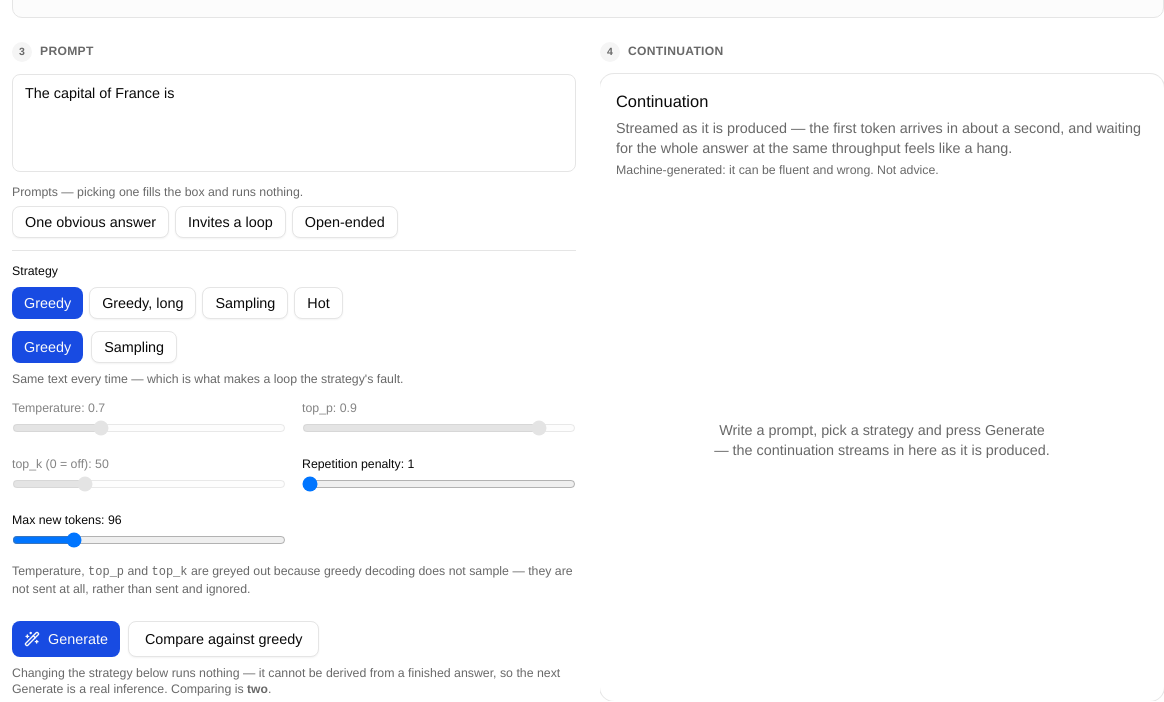
Test case: TextGenerationPage › compares with two inferences of the same prompt, the second greedy
(page scrolled)
Click the button with test id "mode-sample" at (134, 347), box [91,331,177,363]
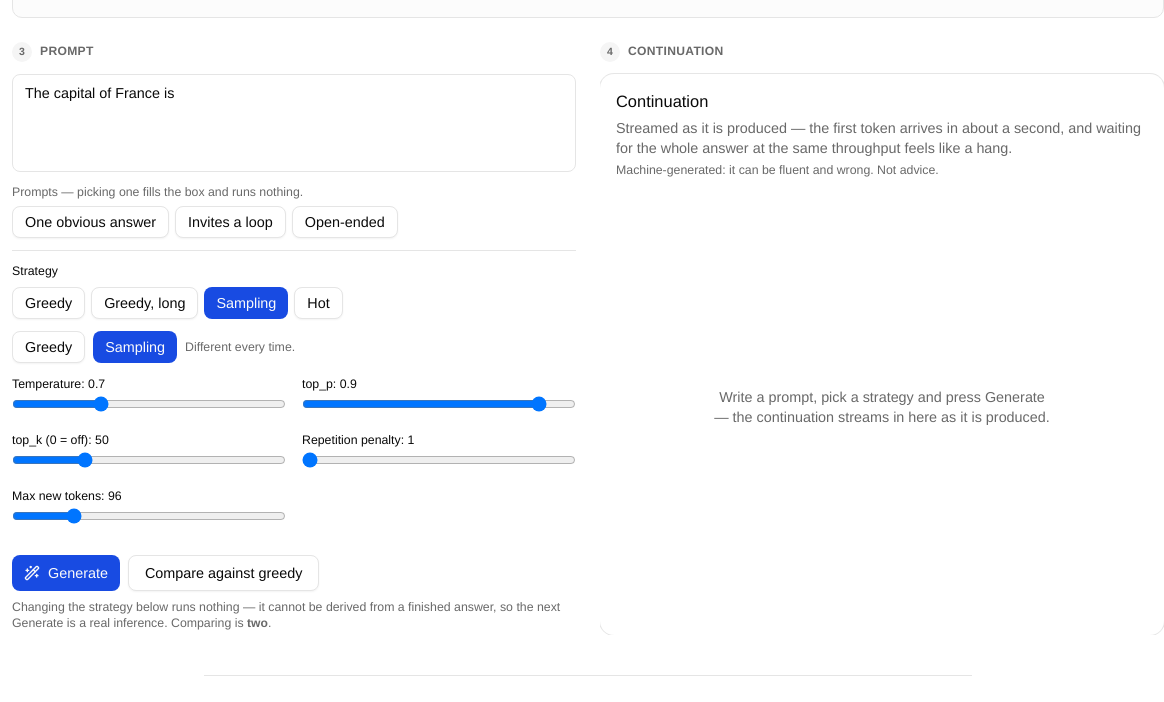
Replace the text in the text box with "Same prompt both times" at (294, 123), box [12,74,576,172]
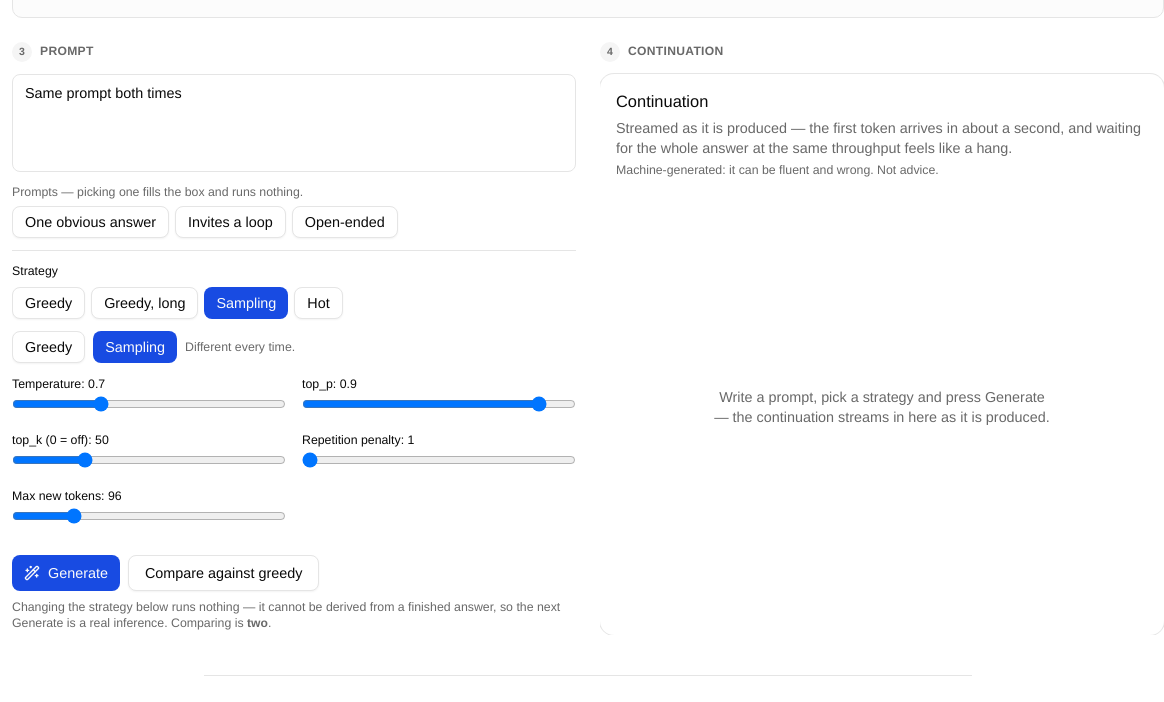
Click the button with test id "compare-run" at (224, 573), box [128,555,319,591]
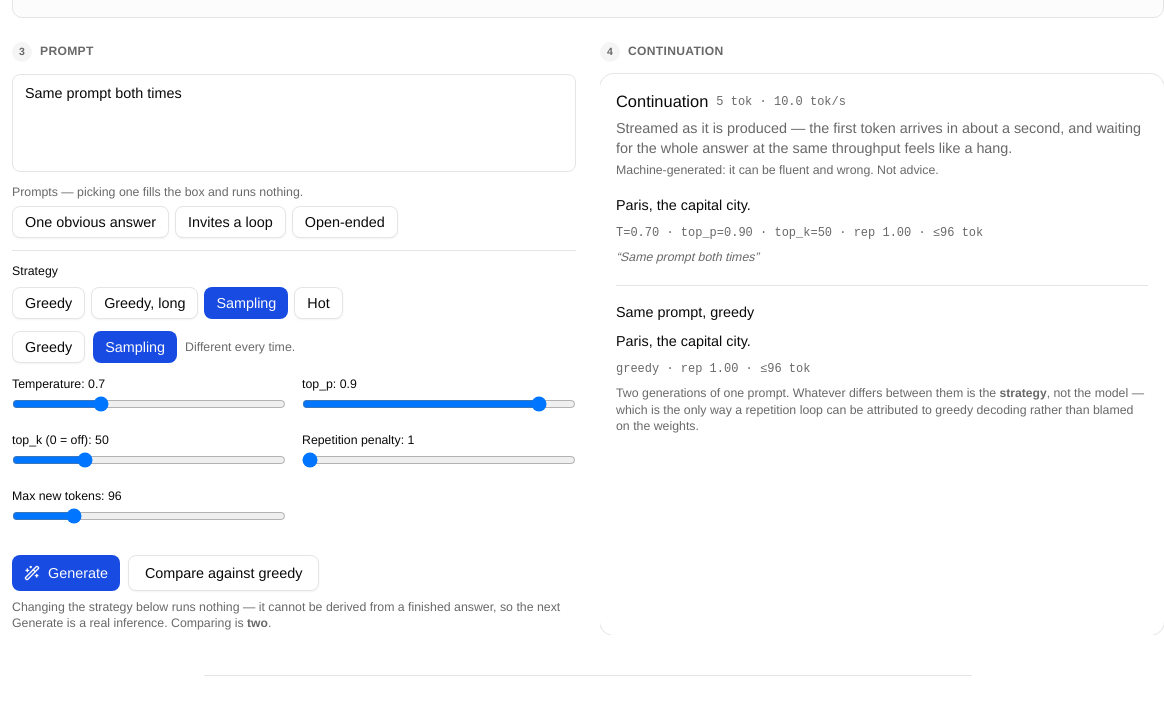
Now the element with test id "comparison" is shown, box [616,285,1148,435]
